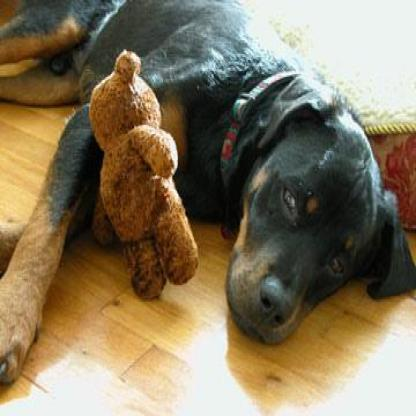Rottweiler: (0, 0, 413, 388)
